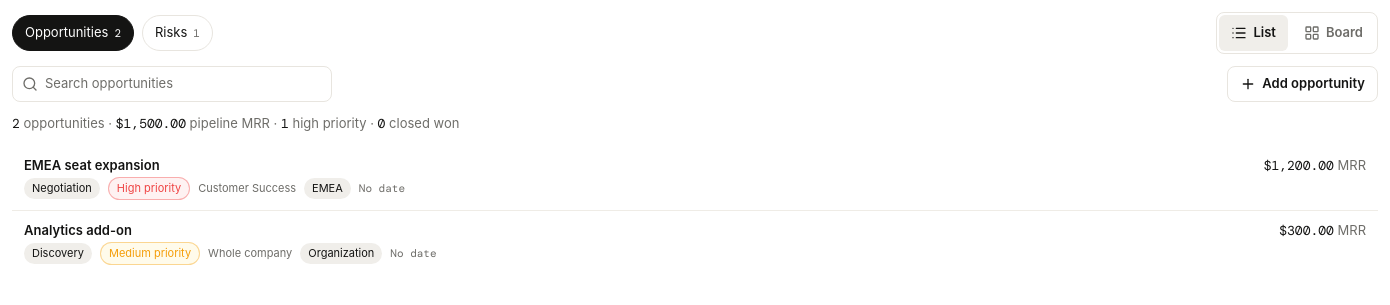
Test case: Deals & risks (spec 2026-09-27 §3) › searches titles, and says when nothing matches
The width and height of the screenshot is (1390, 305).
In the search field labelled "Search opportunities": (172, 84) [12,66,332,102], type "add-on"
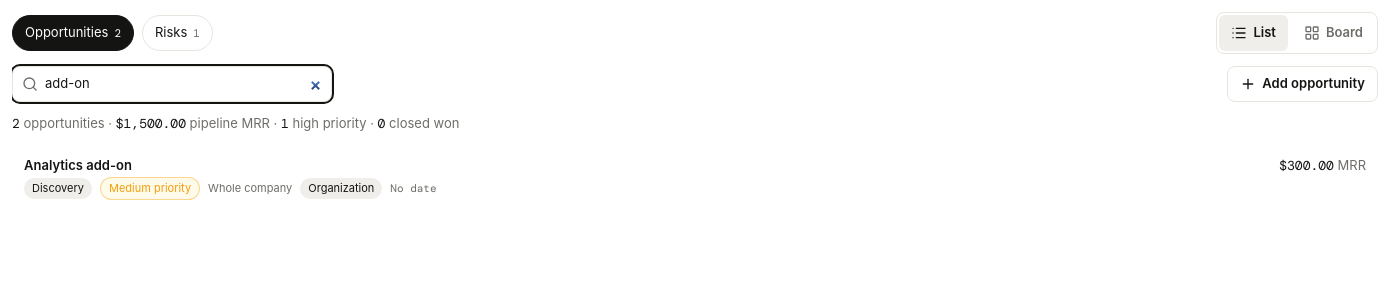
In the search field named "Search opportunities": (172, 84) [12,66,332,102], type "zzz"
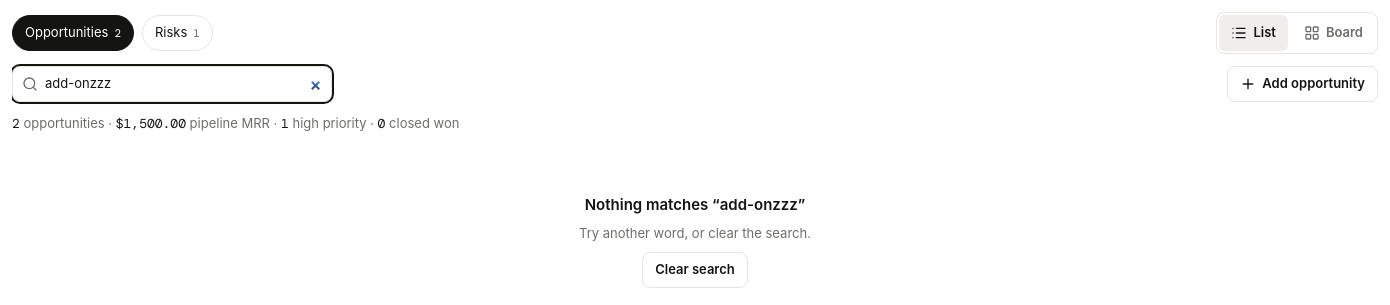
Now the button "Clear search" is shown, box [642,252,748,288]
